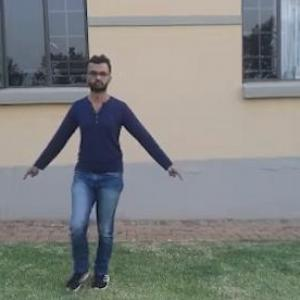land: (33, 74, 165, 258)
